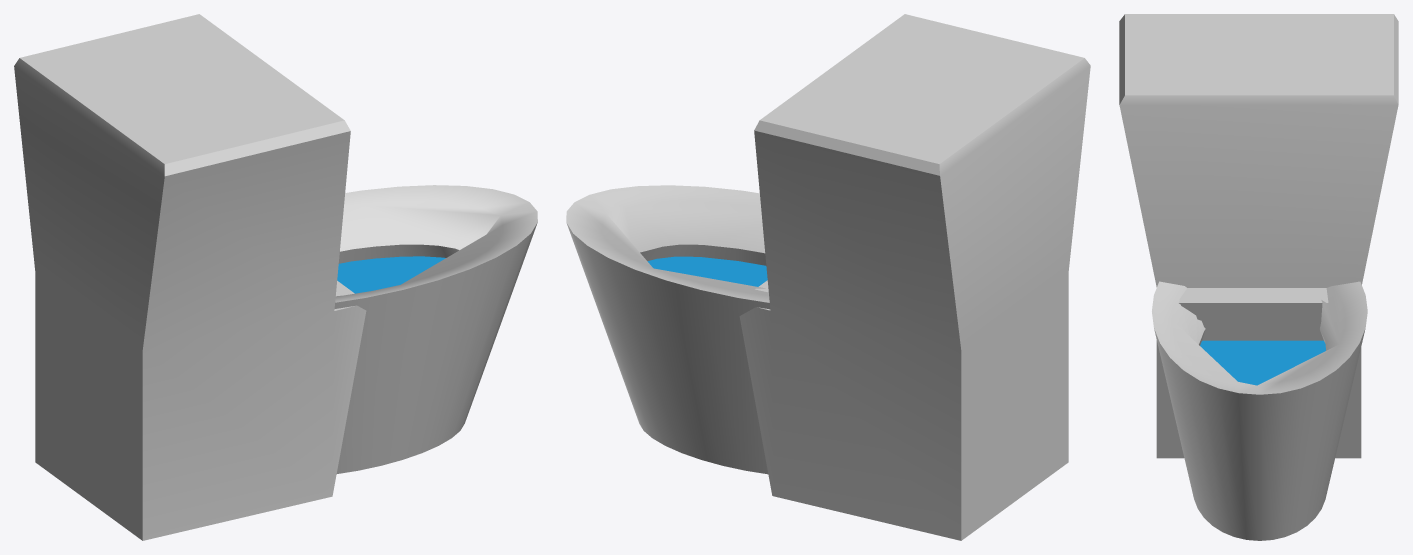
Rendered from Toilet1.fbx.
3 renders of one model, left to right at view 1: azimuth 30°, elevation 25°; view 2: azimuth 150°, elevation 25°; view 3: azimuth 270°, elevation 25°, orthographic. The views are drawn at different scales.
Visible parts, largest first — view 1: Toilet; view 2: Toilet; view 3: Toilet.
Part boxes in pixels (x1=…): Toilet: x1=14, y1=14, x2=537, y2=540; Toilet: x1=566, y1=14, x2=1090, y2=540; Toilet: x1=1119, y1=14, x2=1398, y2=540.
Size of the model in its own units: 474 by 401 by 281.
